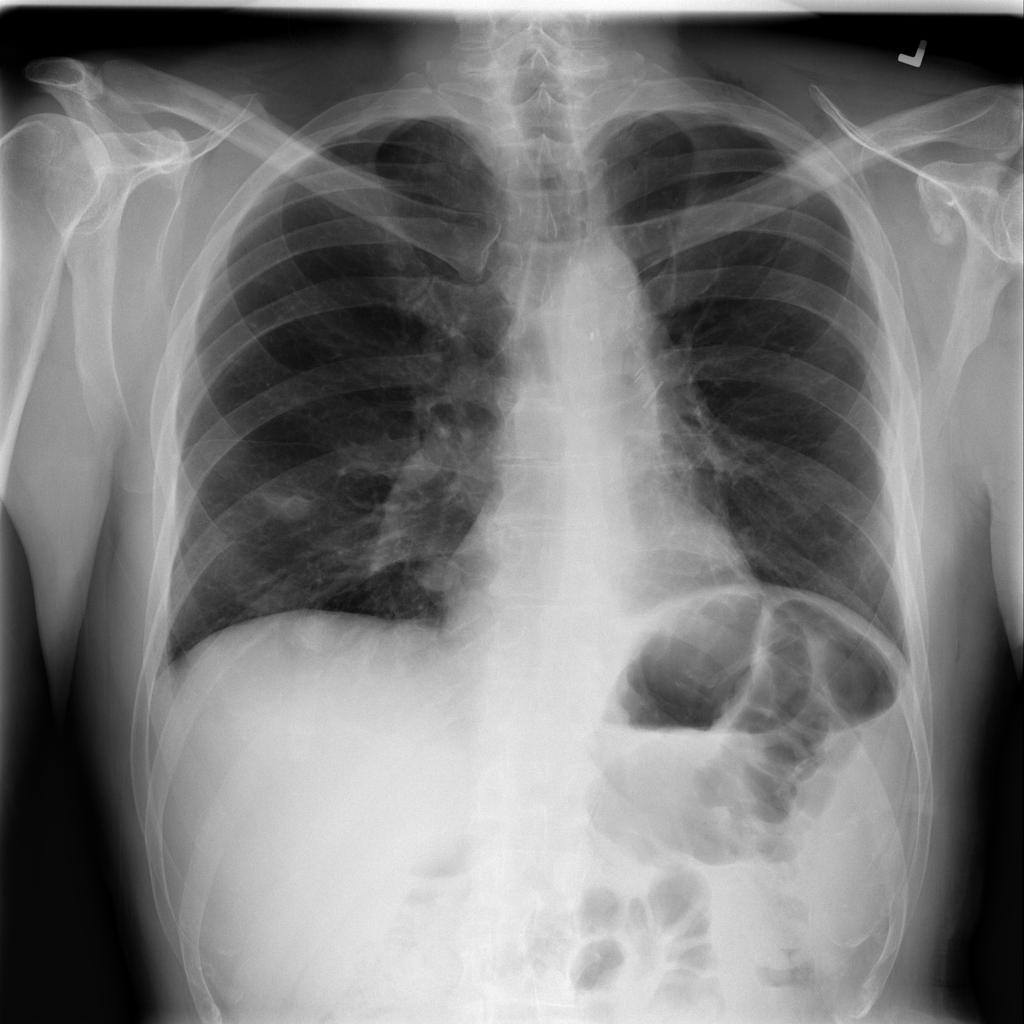nodule: (249, 471, 333, 536), (397, 544, 476, 613), (281, 600, 356, 669)
